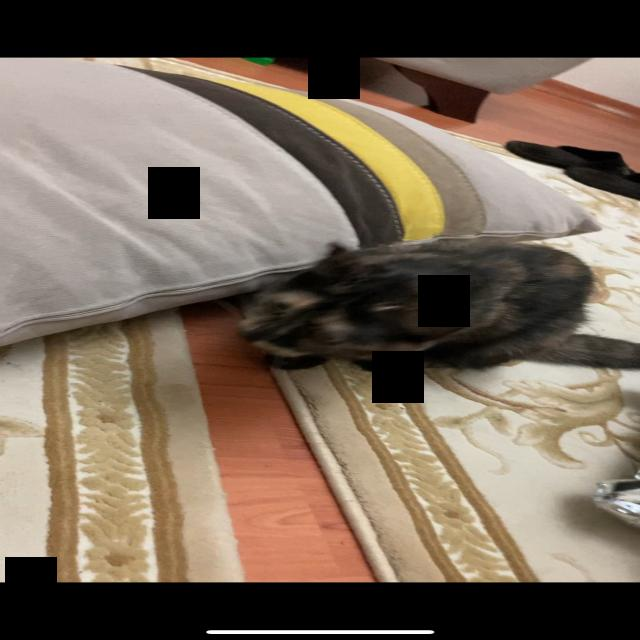authorized: (234, 240, 638, 376)
